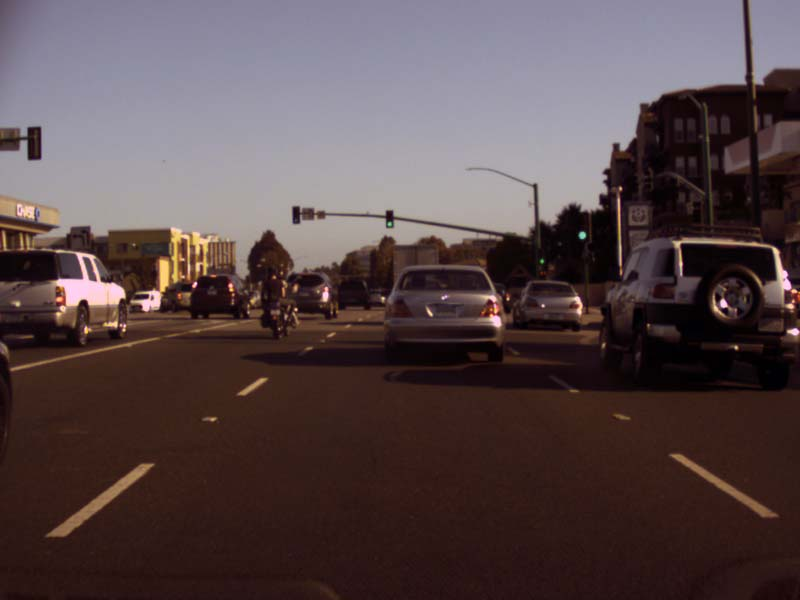Green: (575, 212, 588, 240), (537, 248, 546, 265), (385, 209, 393, 228), (292, 205, 300, 223)
